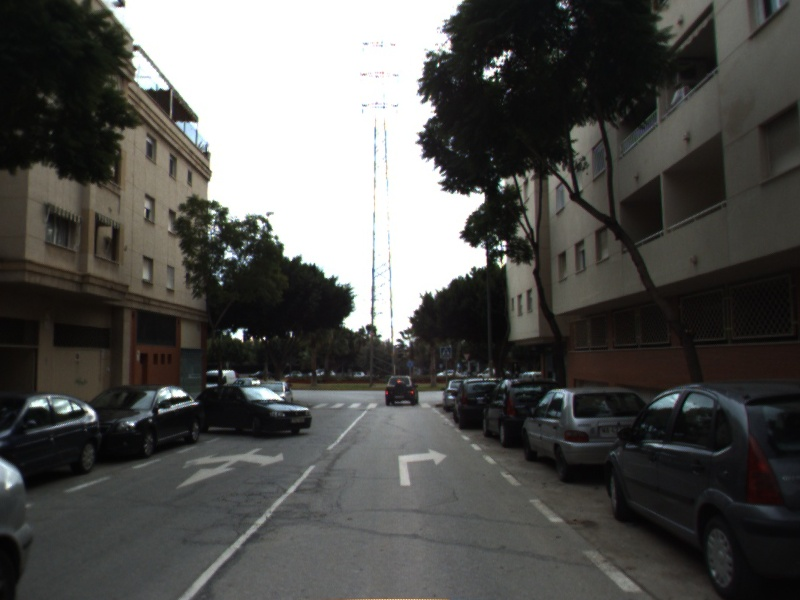RIGHT: (396, 446, 450, 488)
